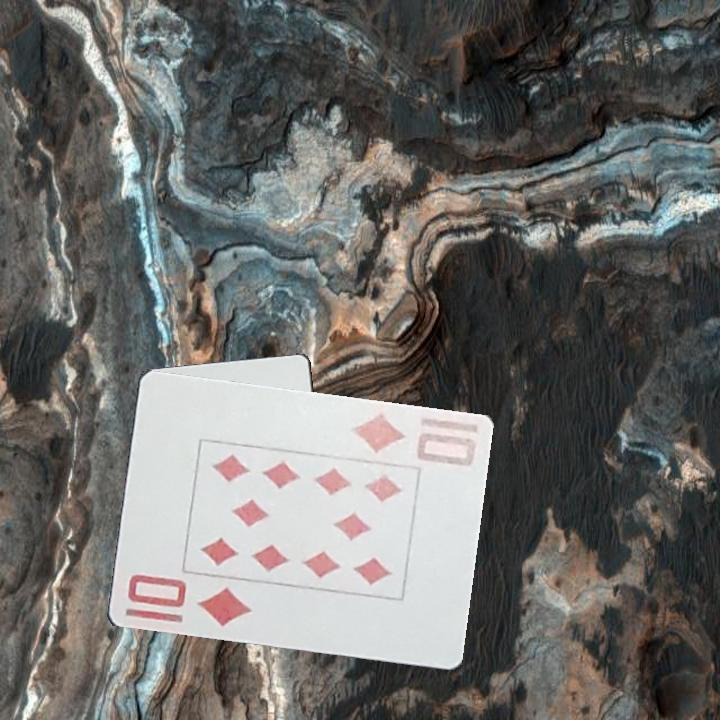Td: (346, 411, 479, 470), (123, 571, 254, 630)
